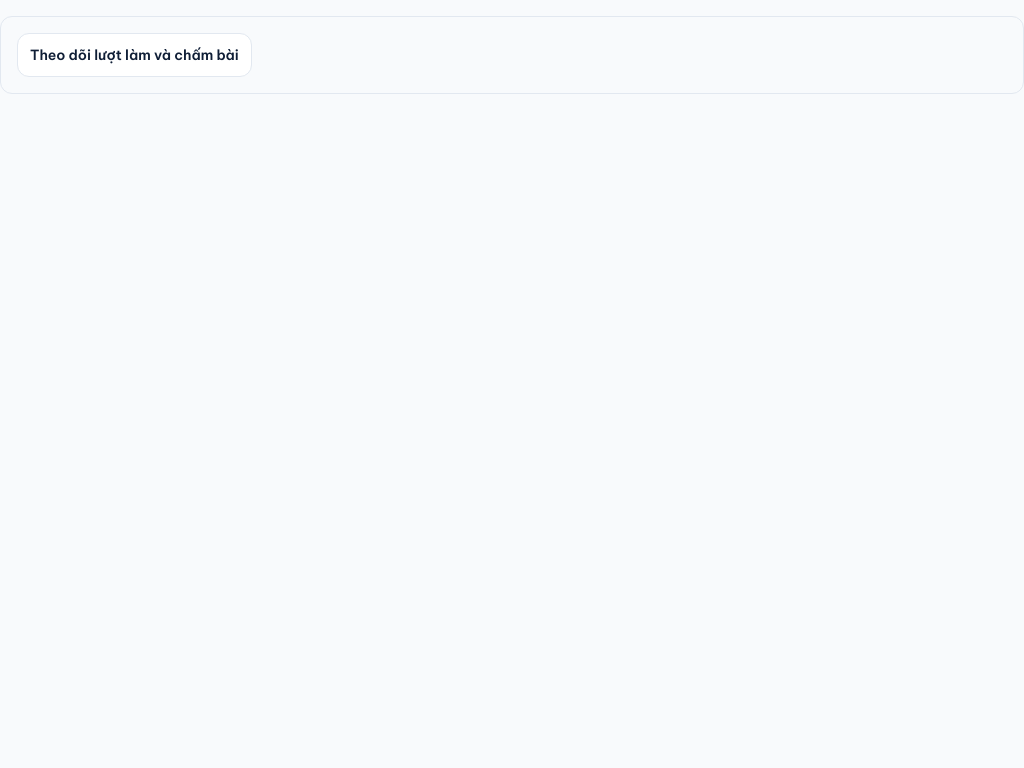
Scenario: teacher attempt review › keeps a confirmed teacher command distinct from a failed refresh
What coordinates should you click on to do the following:
click the button "Theo dõi lượt làm và chấm bài"
I would click on:
 (134, 55)
Its box is [17, 33, 252, 77].
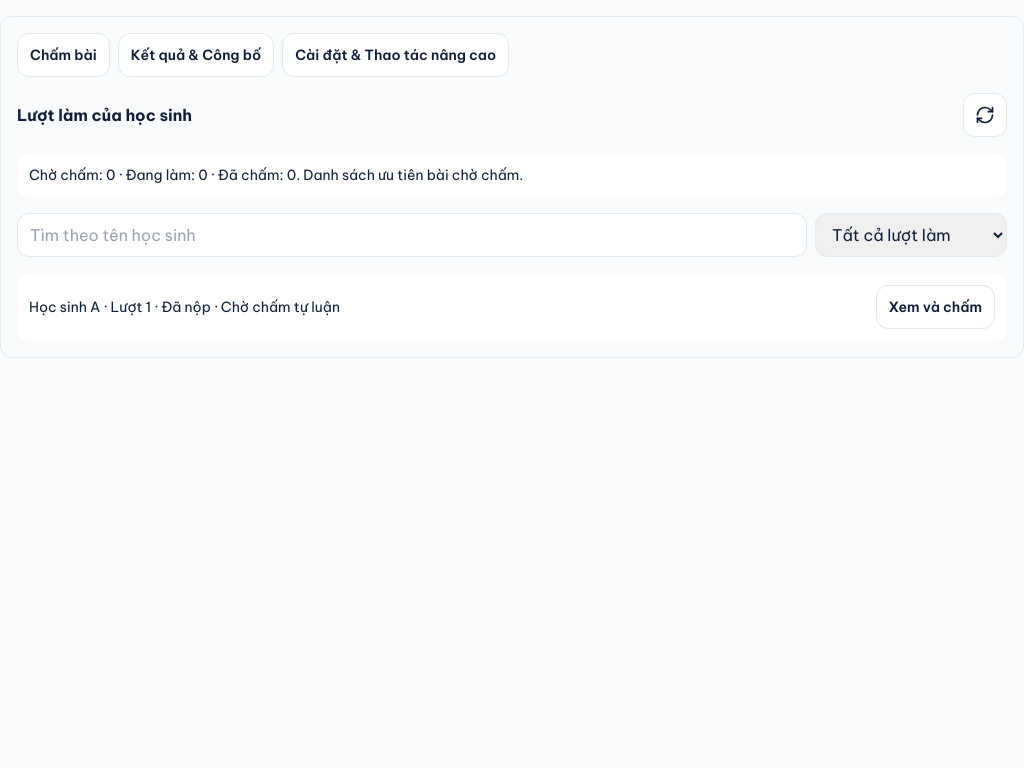
What coordinates should you click on to do the following:
click the button "Kết quả & Công bố"
I would click on:
 (196, 55)
Its box is [118, 33, 274, 77].
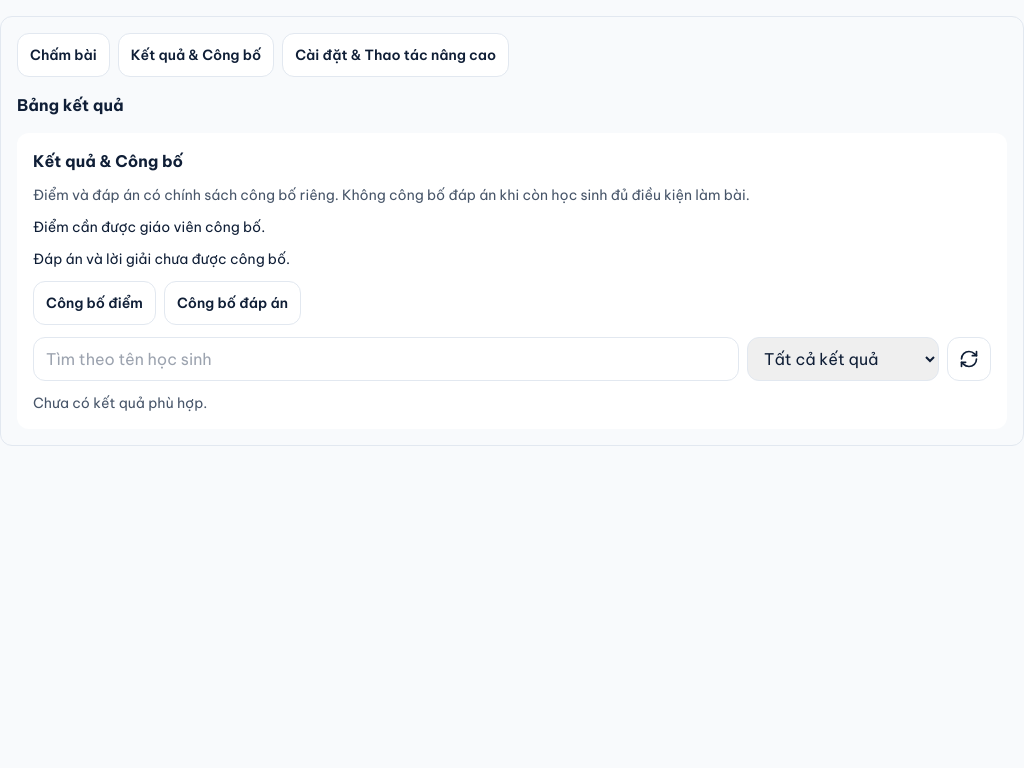
What coordinates should you click on to do the following:
click the button "Công bố điểm"
I would click on:
 (94, 303)
Its box is [33, 281, 156, 325].
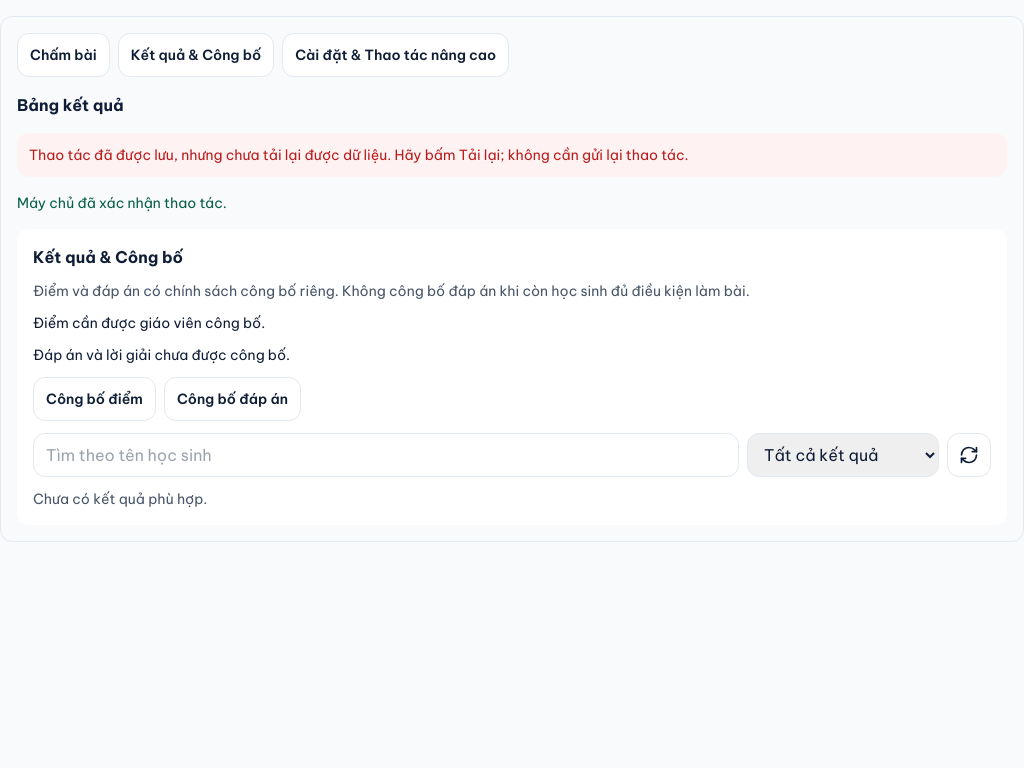
Expected: the text "Thao tác đã được lưu, nhưng chưa tải lại được dữ liệu" is shown, [29, 146, 689, 164]
Expected: the text "Máy chủ đã xác nhận thao tác" is shown, [17, 194, 227, 212]
